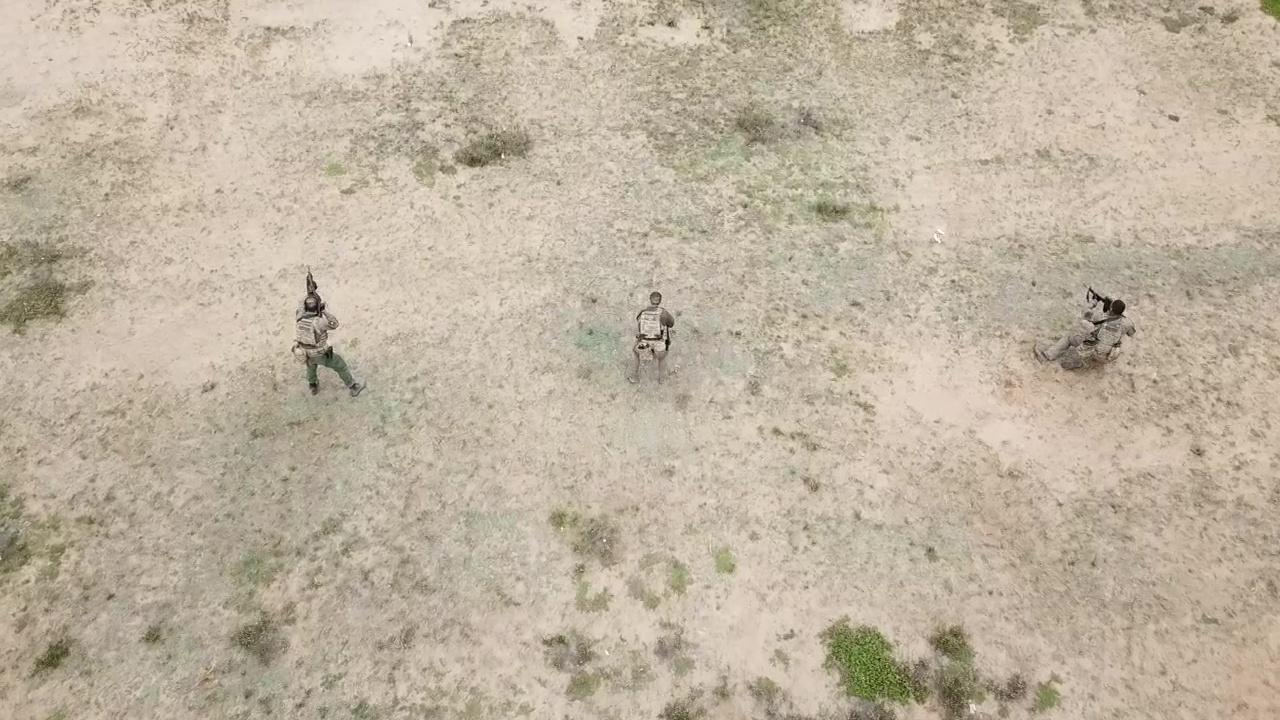Soldier: (285, 261, 366, 397), (1033, 277, 1137, 378), (626, 289, 678, 389)
